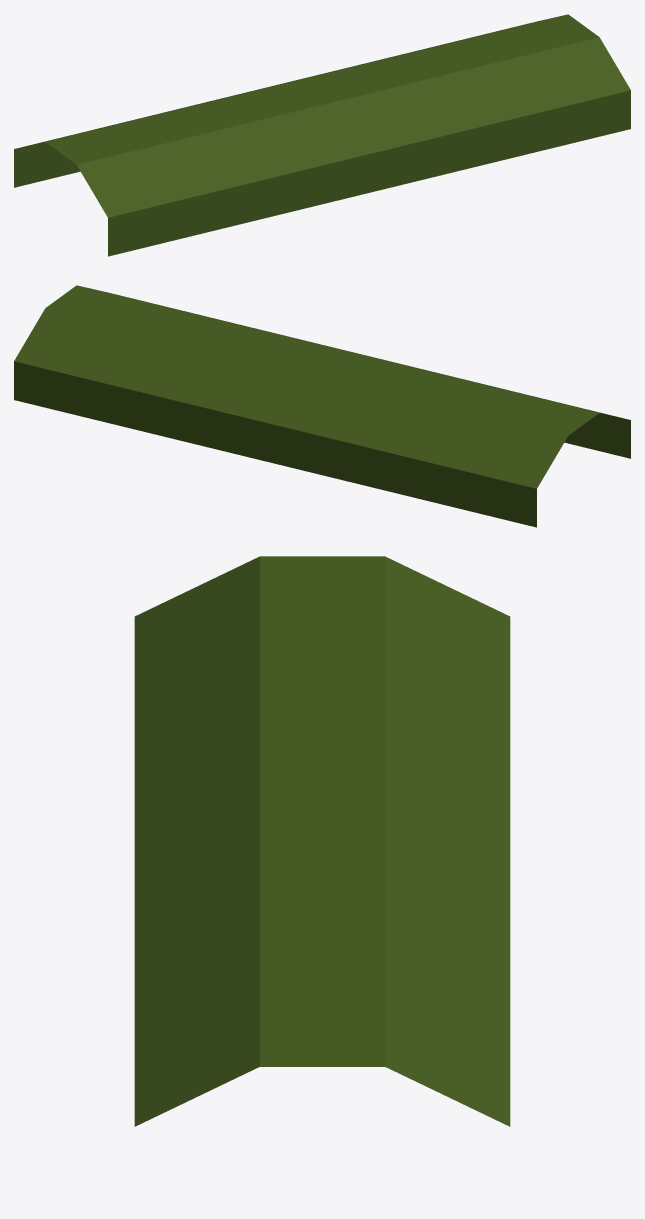
Rendered from fence-w1.fbx.
3 views of the same model, one above another, from view 1: azimuth 30°, elevation 25°; view 2: azimuth 150°, elevation 25°; view 3: azimuth 270°, elevation 25° (orthographic). The views are drawn at different scales.
Parts seen in each view (by area): view 1: M_Wall.004; view 2: M_Wall.004; view 3: M_Wall.004.
Boxes of the visible parts, x1,y1,x2,y2 form: M_Wall.004: (14,14,630,256); M_Wall.004: (14,285,630,527); M_Wall.004: (134,556,510,1126).
Bounding box in the file's own units: 1.55 × 0.1949 × 0.4822.
